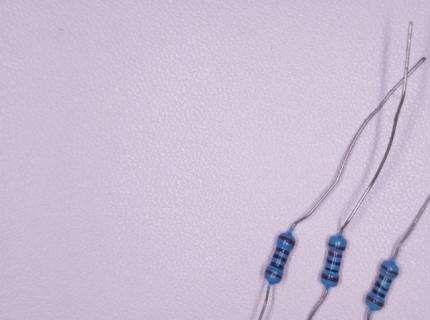Brown band: (276, 246, 290, 256), (378, 274, 392, 284)
